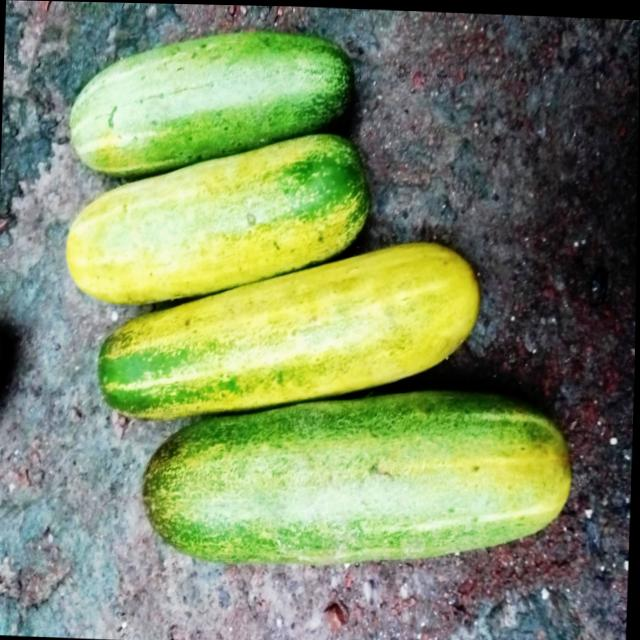Fresh-Cucumber: (140, 374, 582, 579), (99, 223, 484, 436), (65, 119, 376, 316), (65, 21, 358, 185)
